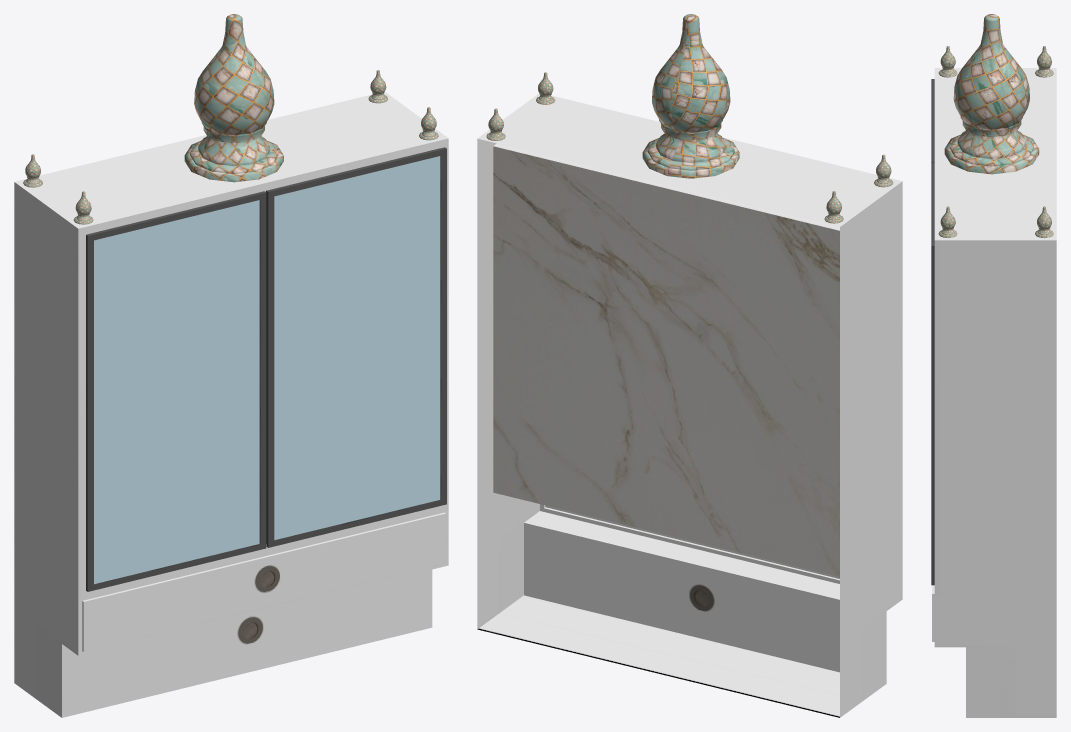
File: Temple.fbx
3 views of the same model, side by side, from view 1: azimuth 30°, elevation 25°; view 2: azimuth 150°, elevation 25°; view 3: azimuth 270°, elevation 25° (orthographic). The views are drawn at different scales.
Visible parts, largest first — view 1: temple, templet_gate_glass, templet_gate_glass1, design_temple, temple_gate_steel1, temple_gate_steel; view 2: temple, design_temple; view 3: temple, design_temple, temple_gate_steel1, temple_gate_steel.
Boxes of the visible parts, left/top/right/bottom form: temple: left=14, top=92, right=448, bottom=717; templet_gate_glass: left=274, top=156, right=440, bottom=539; templet_gate_glass1: left=94, top=200, right=259, bottom=583; design_temple: left=23, top=14, right=438, bottom=224; temple_gate_steel1: left=266, top=147, right=446, bottom=547; temple_gate_steel: left=86, top=191, right=266, bottom=591; temple: left=477, top=93, right=902, bottom=717; design_temple: left=486, top=14, right=893, bottom=223; temple: left=932, top=68, right=1056, bottom=717; design_temple: left=938, top=14, right=1053, bottom=238; temple_gate_steel1: left=931, top=163, right=934, bottom=585; temple_gate_steel: left=931, top=79, right=934, bottom=162.
Bounding box in the file's own units: 134 × 223 × 41.22.
4 materials, 4 textured.
